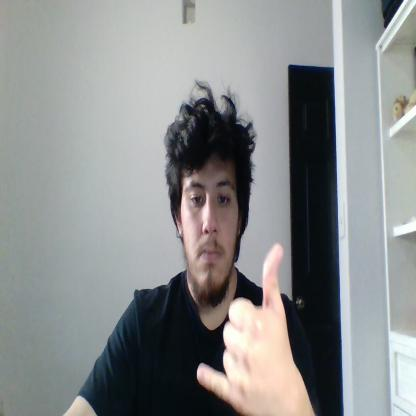Y: (197, 242, 297, 415)
